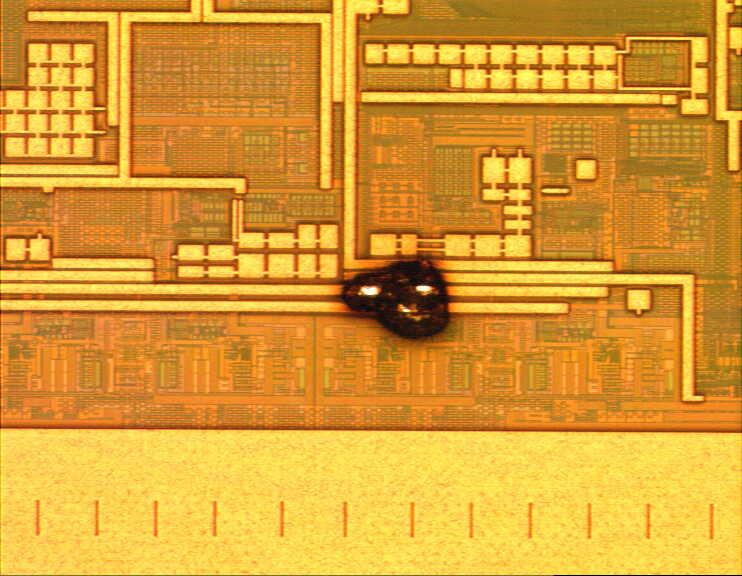PIQ PARTICLE: (332, 250, 454, 347)
